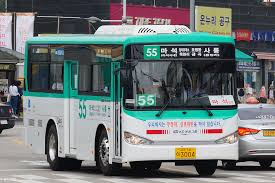bnum: (144, 46, 159, 58)
